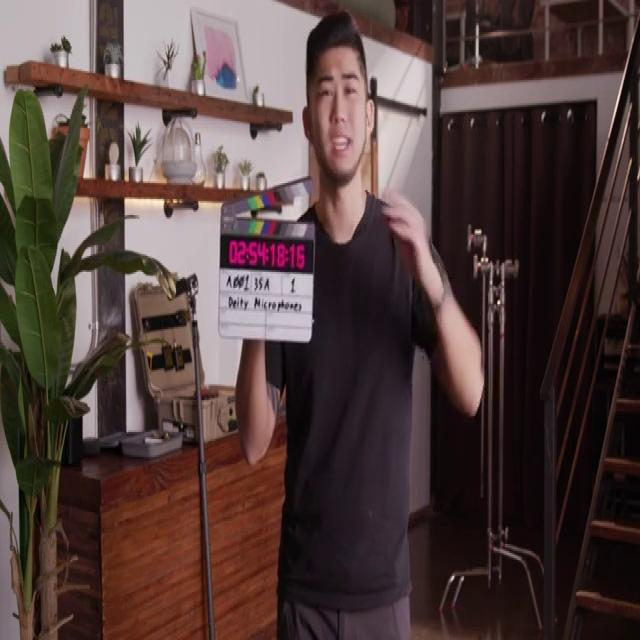Clapperboard: (218, 174, 314, 348)
